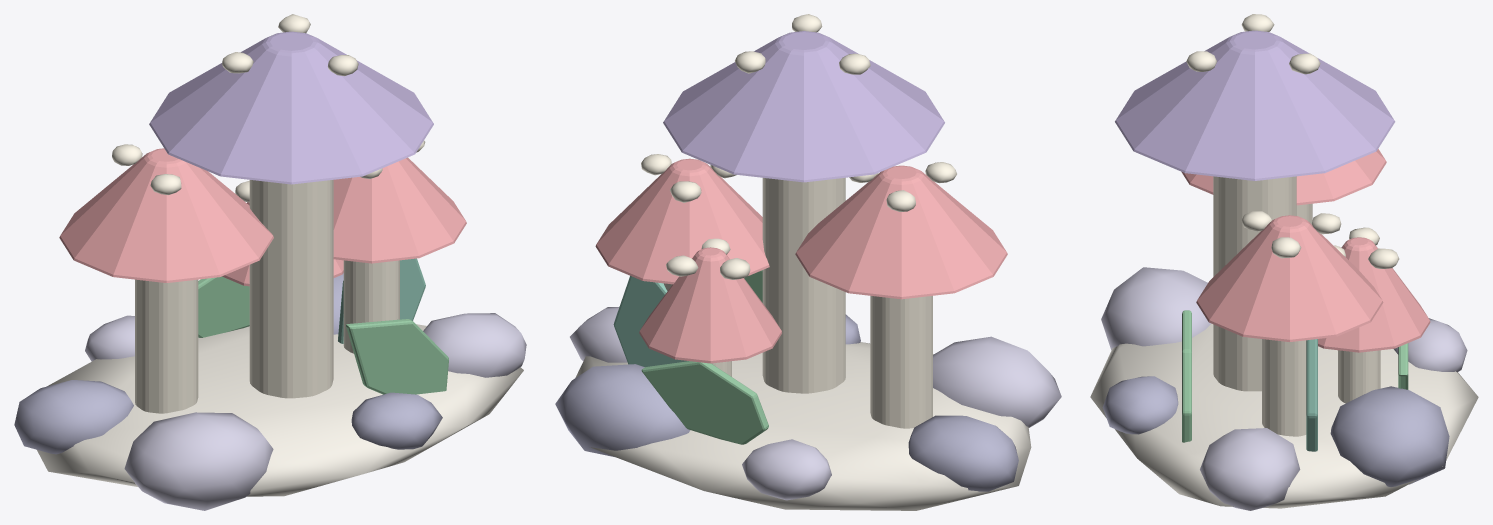
Rendered from lagoon_mushroom_cluster.glb.
3 renders of one model, left to right at view 1: azimuth 30°, elevation 25°; view 2: azimuth 150°, elevation 25°; view 3: azimuth 270°, elevation 25°, orthographic.
Parts seen in each view (by area): view 1: lagoon_mushroom_cluster.001; view 2: lagoon_mushroom_cluster.001; view 3: lagoon_mushroom_cluster.001.
Boxes of the visible parts, x1,y1,x2,y2 form: lagoon_mushroom_cluster.001: [14, 14, 526, 510]; lagoon_mushroom_cluster.001: [555, 14, 1061, 510]; lagoon_mushroom_cluster.001: [1090, 14, 1478, 510].
Size of the model in its own units: 3.09 by 2.5 by 2.23.
